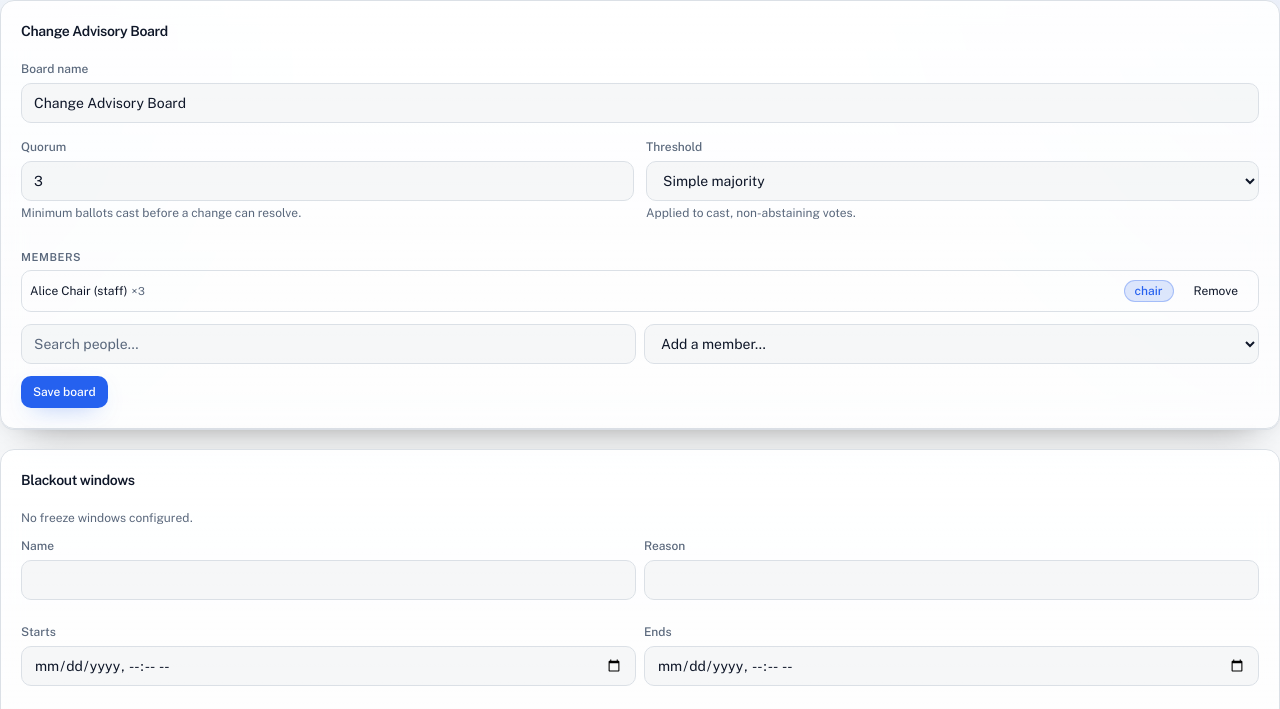
CabBoardSettings › shows a member’s weight and measures the quorum against roster weight
Expected: the field showing "Change Advisory Board" is shown, [21,83,1259,123]
Expected: the text "×3" is shown, [132,284,145,296]
Step 1. Replace the text in the number field labelled "Quorum" with "4" → x=328, y=181, box [21,161,634,201]
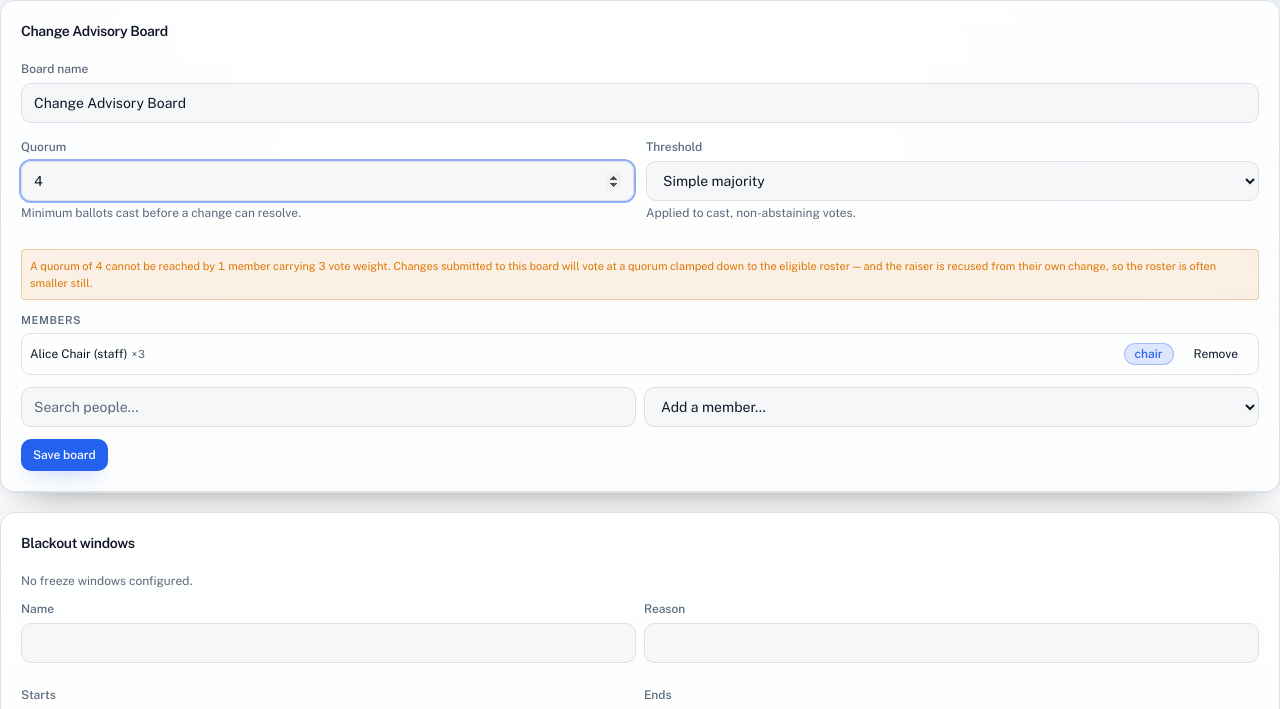
Now the text "carrying 3 vote weight" is shown, box [270,260,388,272]
